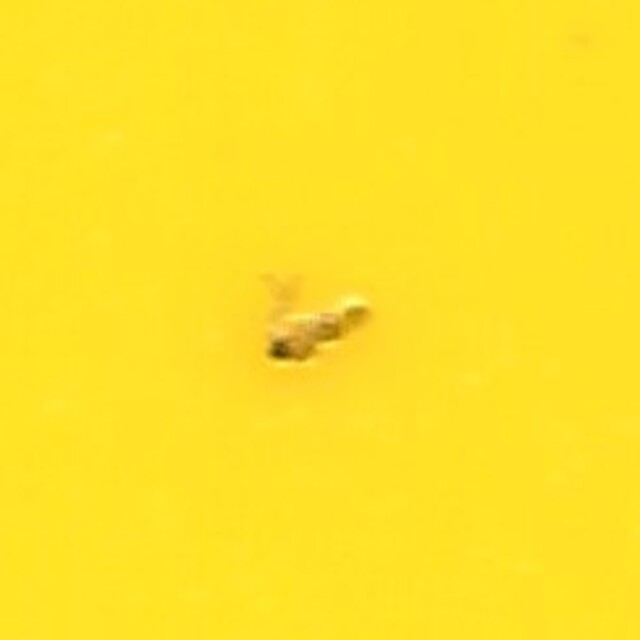Hymenoptera: (262, 272, 378, 368)
